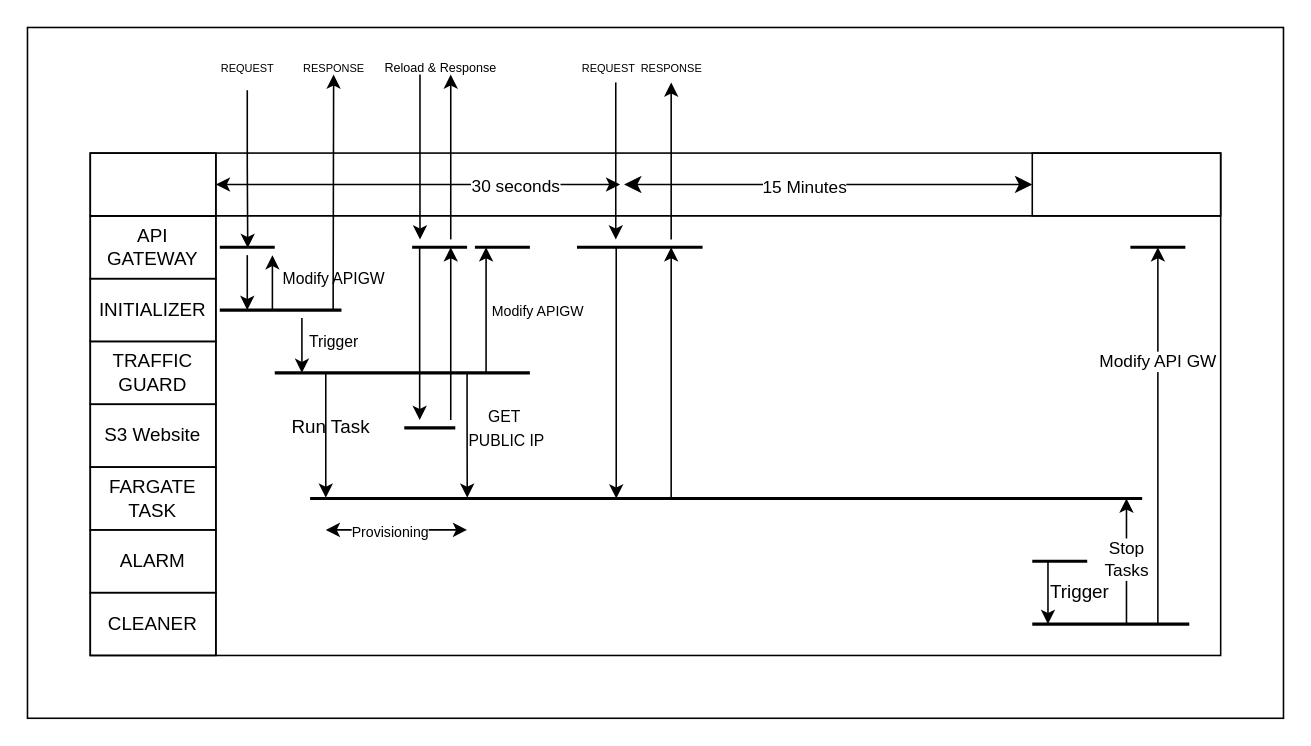
Image size: 1311x746. Some labels were removed from this diagram. Here are the shapes that lost their labels. From the top down, the box of each, then its label:
(89, 152, 216, 216): IDLE
(1031, 152, 1221, 216): Cleanup
